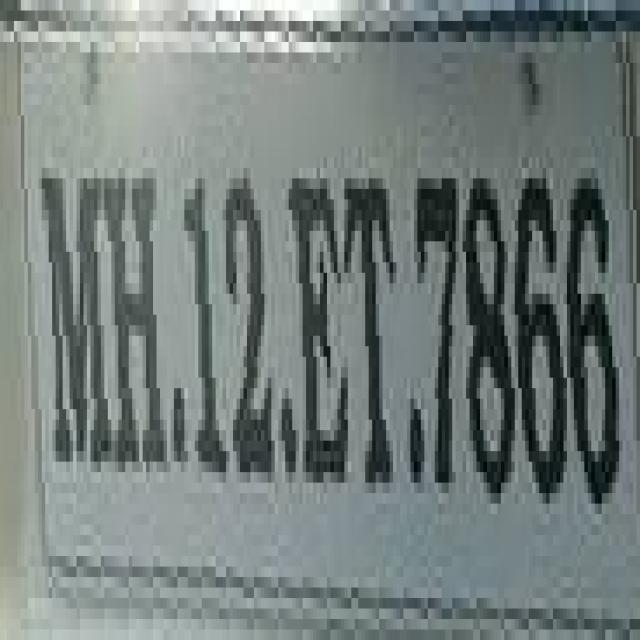license_plate: (24, 52, 640, 588)
